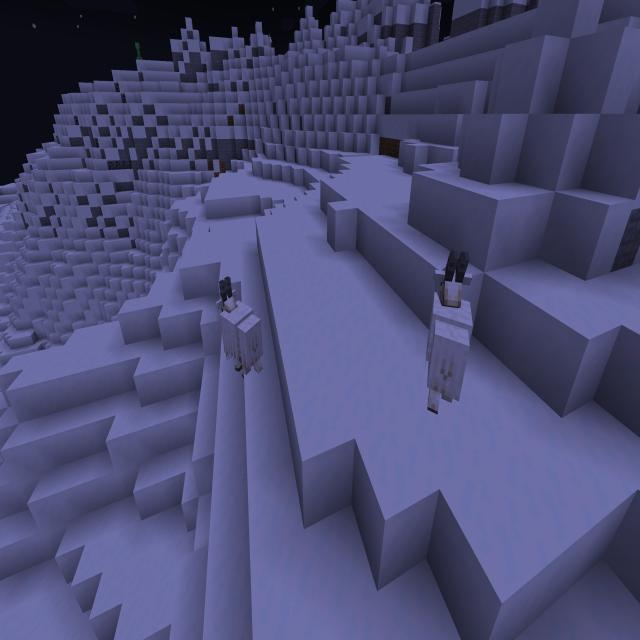Goat: (422, 246, 474, 423), (214, 275, 266, 383)
